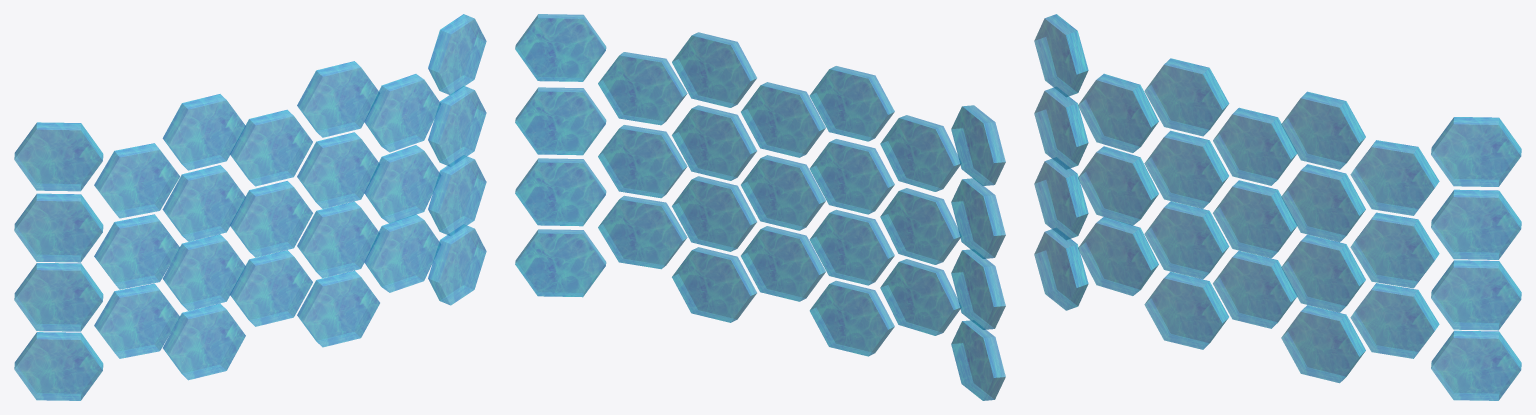
The model's file is ShieldDrone_Shield.fbx.
3 views of the same model, side by side, from view 1: azimuth 30°, elevation 25°; view 2: azimuth 150°, elevation 25°; view 3: azimuth 330°, elevation 25° (orthographic). The views are drawn at different scales.
Parts seen in each view (by area): view 1: front1; view 2: front1; view 3: front1.
Part boxes in pixels (bbox=[...]): front1: bbox=[14, 14, 486, 400]; front1: bbox=[515, 14, 1005, 400]; front1: bbox=[1034, 14, 1521, 400].
Bounding box in the file's own units: 10.31 × 5.66 × 1.3.
Materials: 1 (1 with a texture image).
